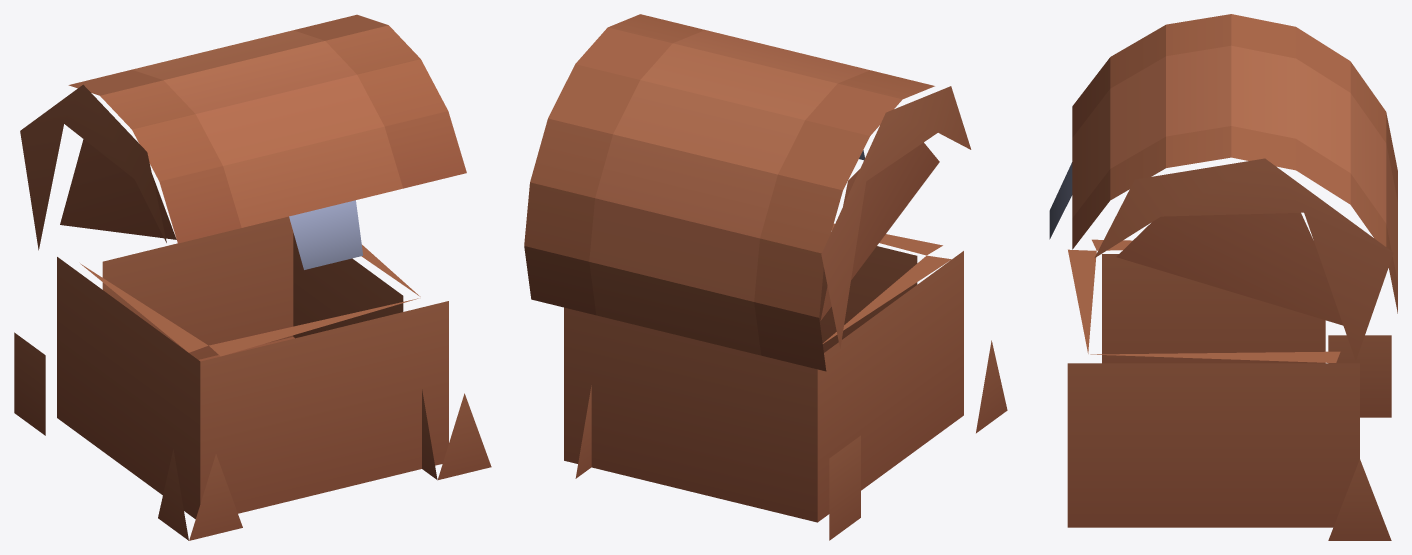
The model's file is chest.lod.glb.
The picture shows the model from 3 angles, left to right: view 1: azimuth 30°, elevation 25°; view 2: azimuth 150°, elevation 25°; view 3: azimuth 270°, elevation 25°; orthographic projection. The views are drawn at different scales.
Parts seen in each view (by area): view 1: m; view 2: m; view 3: m.
Boxes of the visible parts, <box> form: m: <box>14,14,491,540</box>; m: <box>524,14,1007,540</box>; m: <box>1049,14,1397,540</box>.
Size of the model in its own units: 0.3 by 0.3537 by 0.3053.
